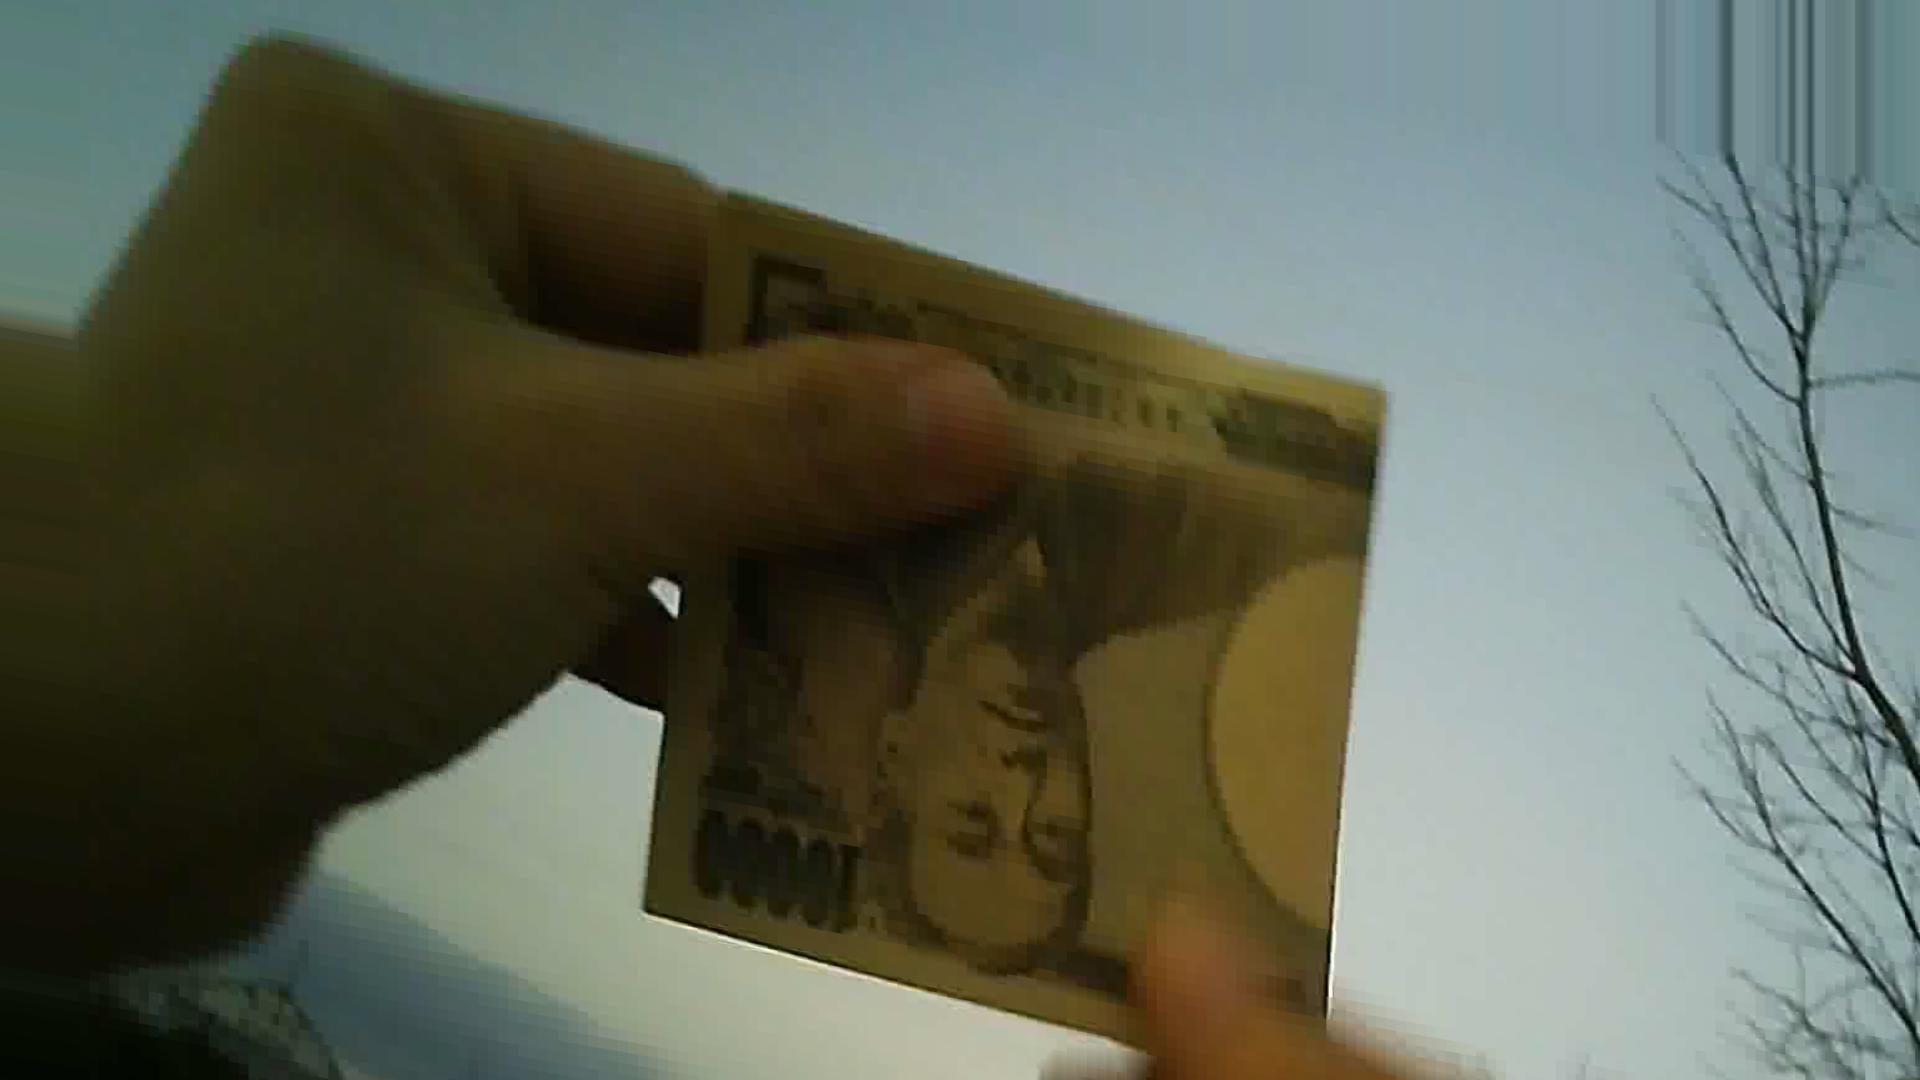10,000 Yen: (629, 198, 1393, 1056)
